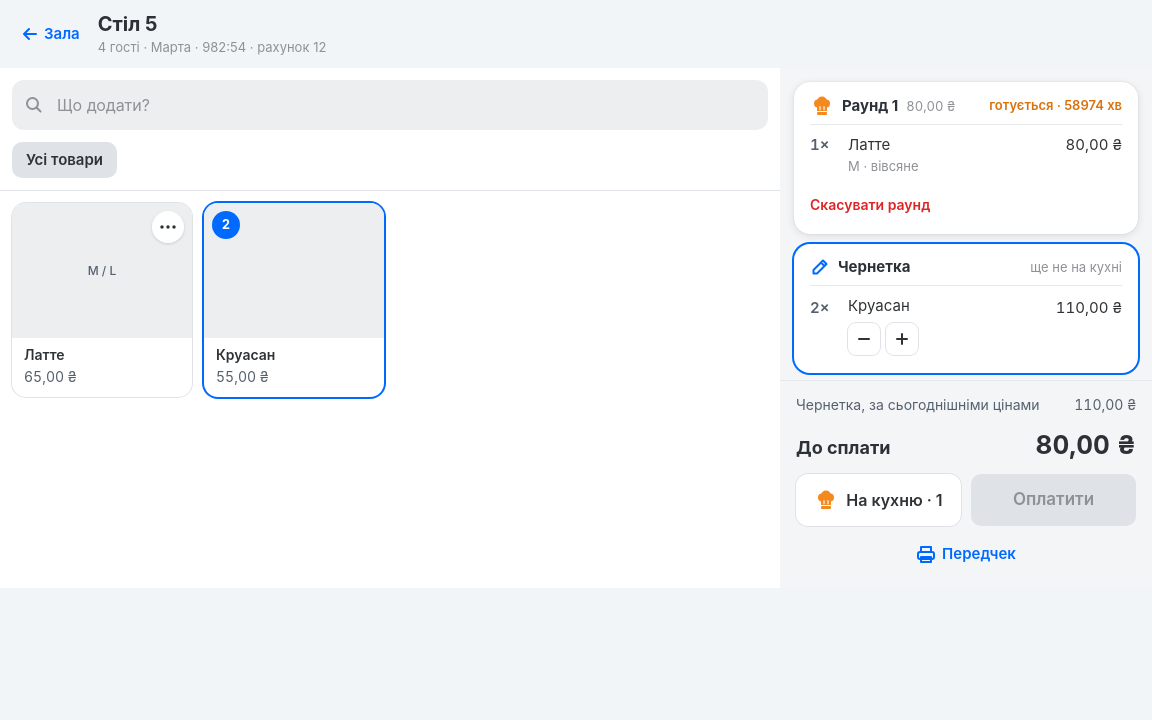
BillPage › shows the server’s refusal rather than a shrug
This screenshot has width=1152, height=720.
Click the button with test id "bill-more-3" at (902, 339), box 886,323 -> 918,355
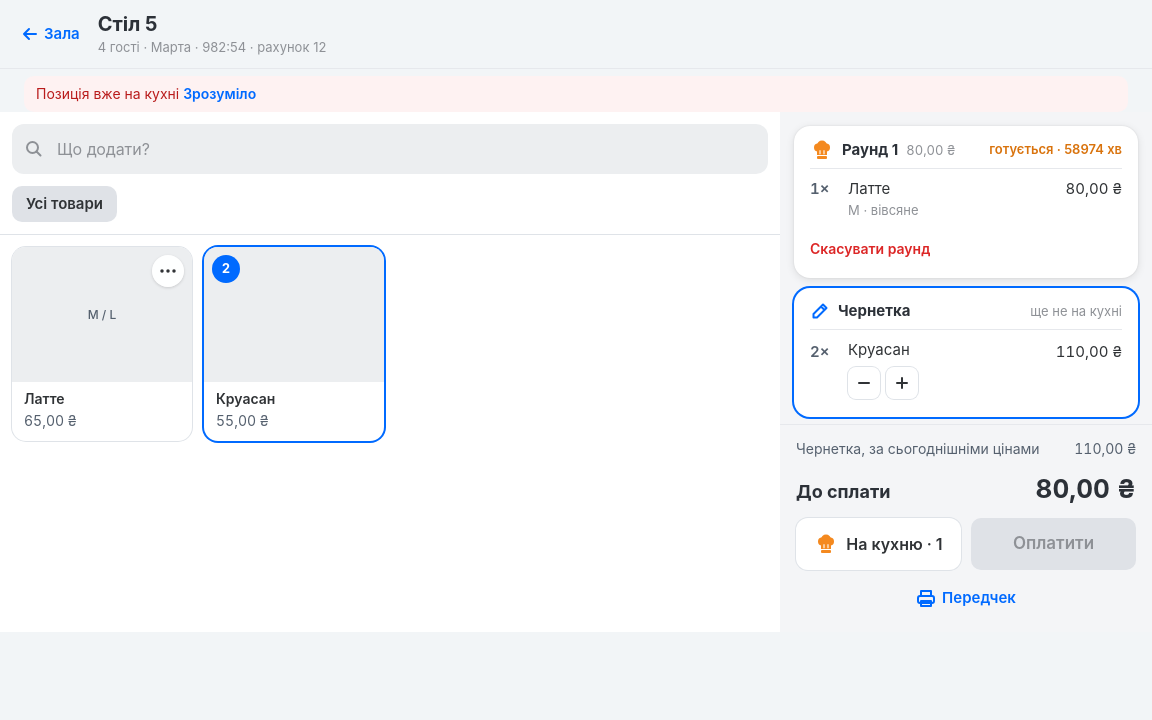
Expected: the element with test id "bill-banner" shows "Позиція вже на кухні", 36,85 -> 179,102
